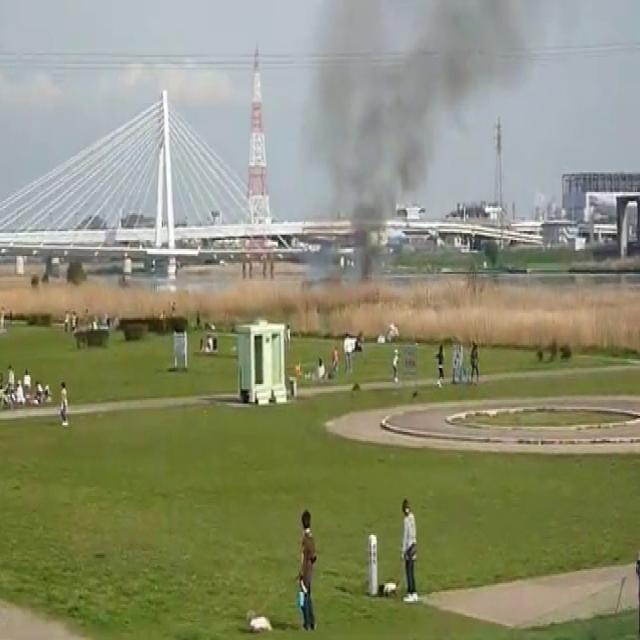Smoke: (294, 0, 576, 228)
